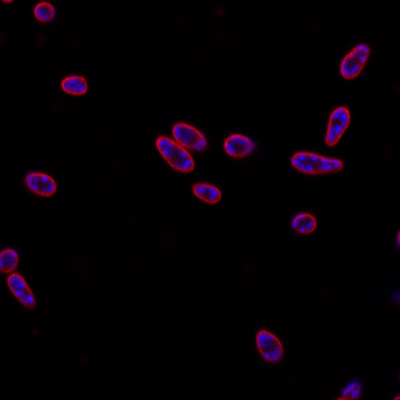Mecillinam: (154, 134, 195, 173), (291, 149, 345, 176), (337, 43, 370, 79), (325, 105, 352, 147), (5, 273, 36, 309), (255, 329, 285, 362), (22, 171, 57, 196), (190, 180, 222, 205), (59, 77, 89, 95)
Oblique: (172, 122, 208, 150), (222, 132, 257, 158), (289, 212, 317, 236), (31, 2, 55, 23)
